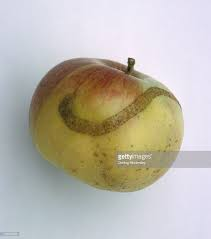damaged_apple: (31, 57, 187, 188)
